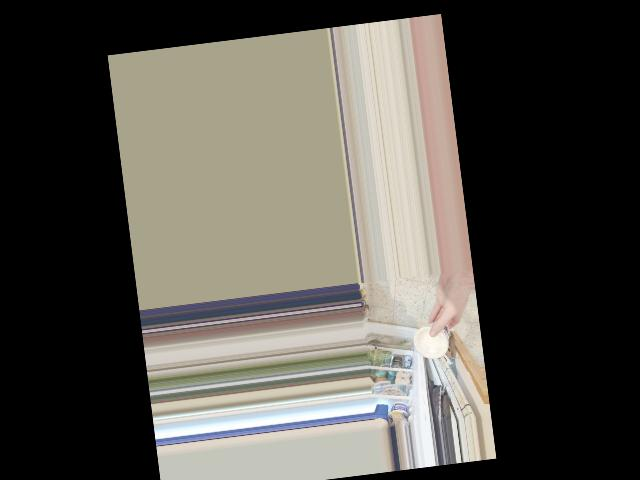cotage: (410, 315, 458, 362)
